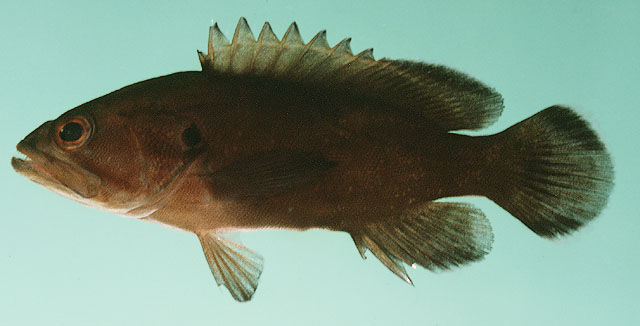fish: (13, 18, 617, 303)
